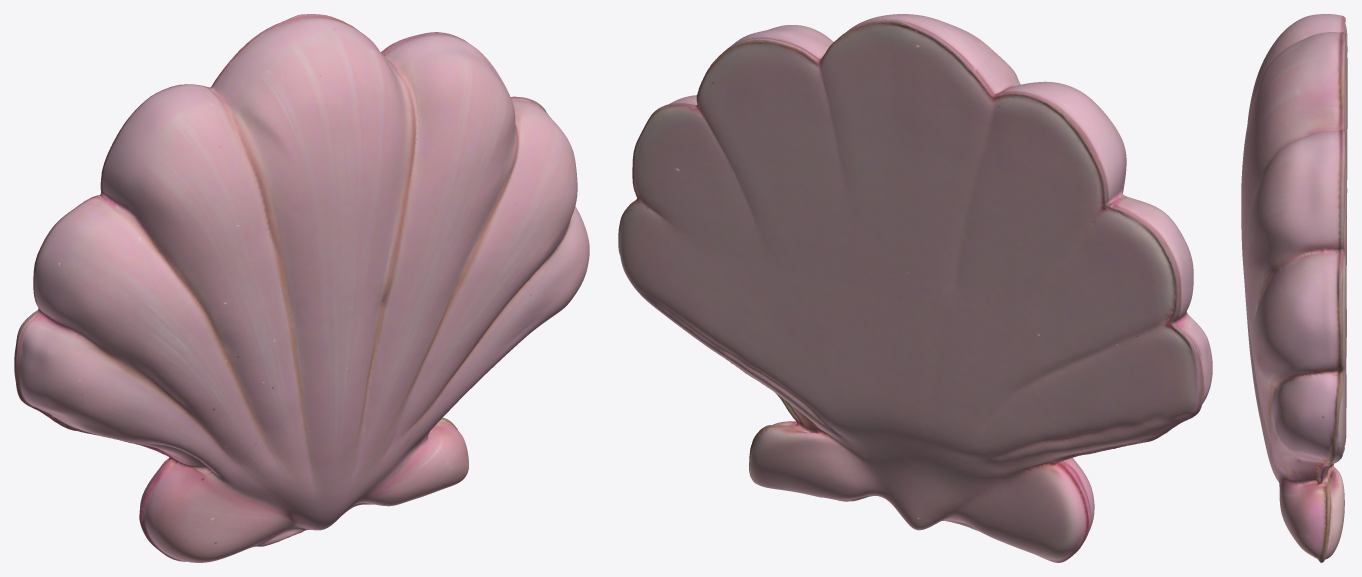
Rendered from Pink_Shell_Clip_1029042716_texture.glb.
3 views of the same model, side by side, from view 1: azimuth 30°, elevation 25°; view 2: azimuth 150°, elevation 25°; view 3: azimuth 270°, elevation 25° (orthographic). The views are drawn at different scales.
Bounding box in the file's own units: 1.99 × 1.69 × 0.354.
1 material, 1 textured.
